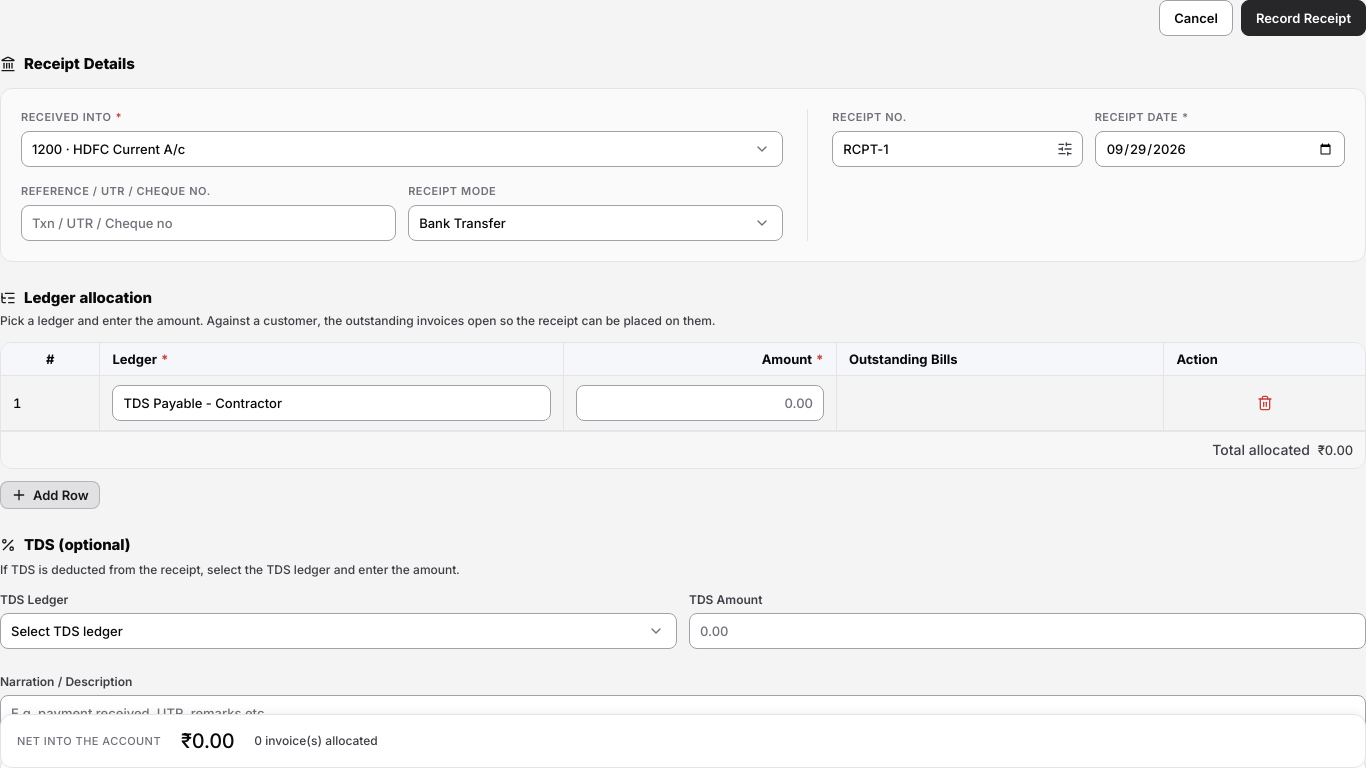
Test: money against a customer › offers the bills once the amount on a customer row is named
Type "ABC" into the dropdown named "Account, allocation row 1".
click(332, 403); type("ABC")  # box [112,385,551,421]
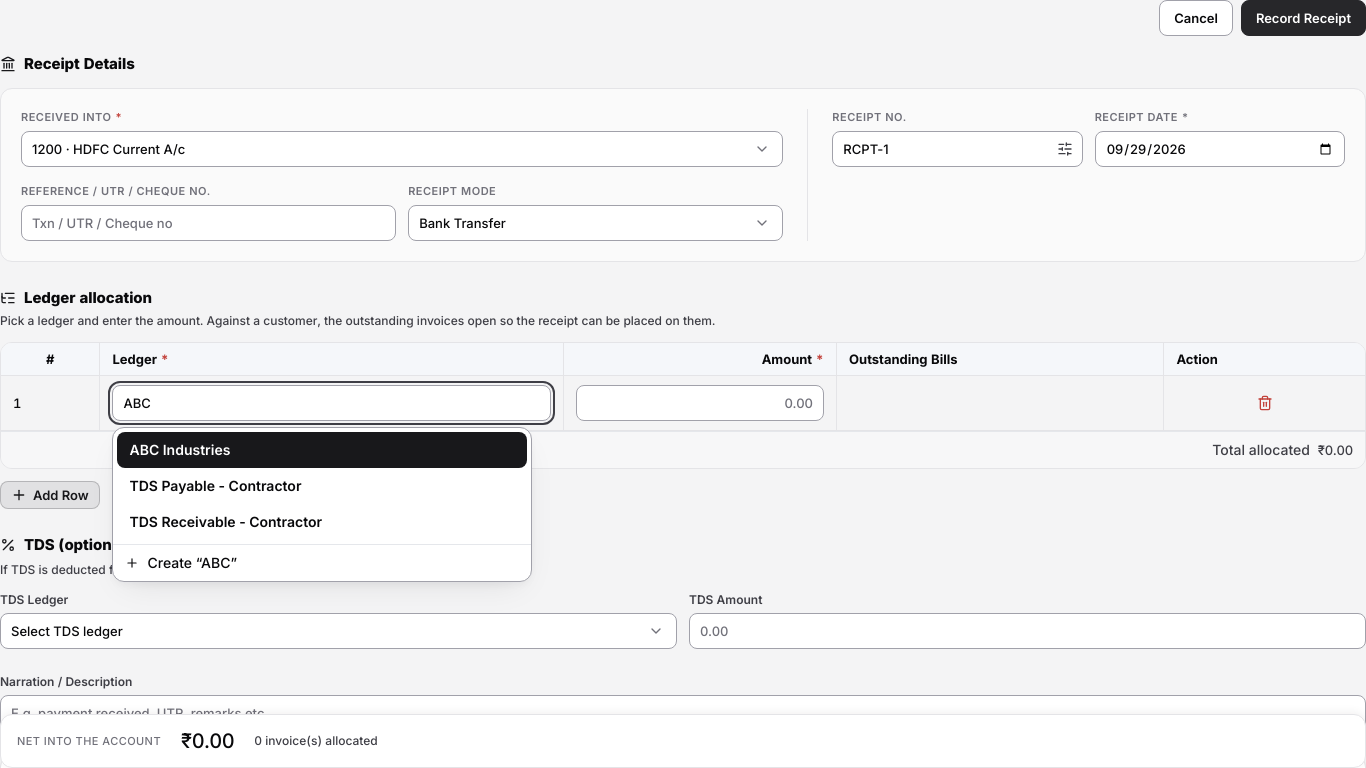
Click the option "ABC Industries".
click(180, 450)  # box [118,432,528,468]
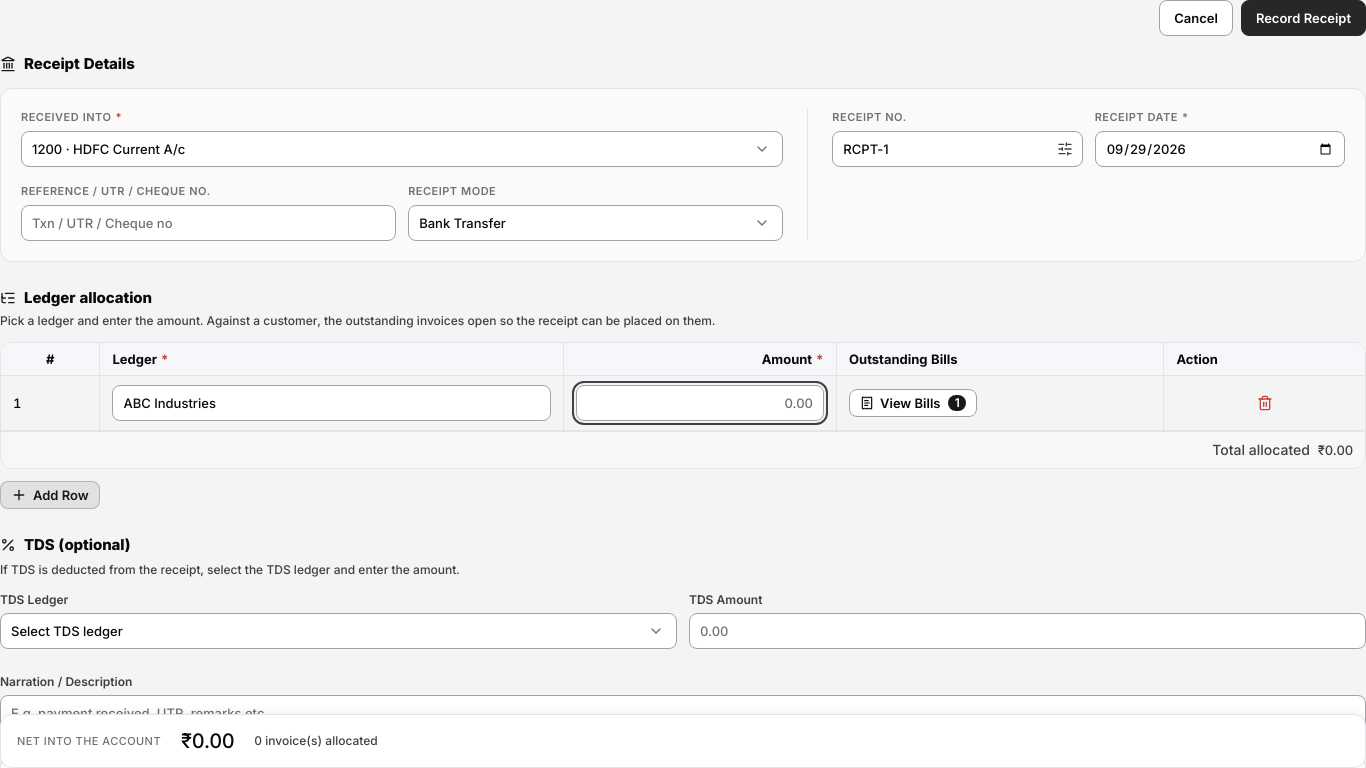
Check: the text "Allocate Outstanding Bills" is not shown
Type "50000" into the number field named "Amount, allocation row 1".
click(700, 403); type("50000")  # box [576,385,824,421]
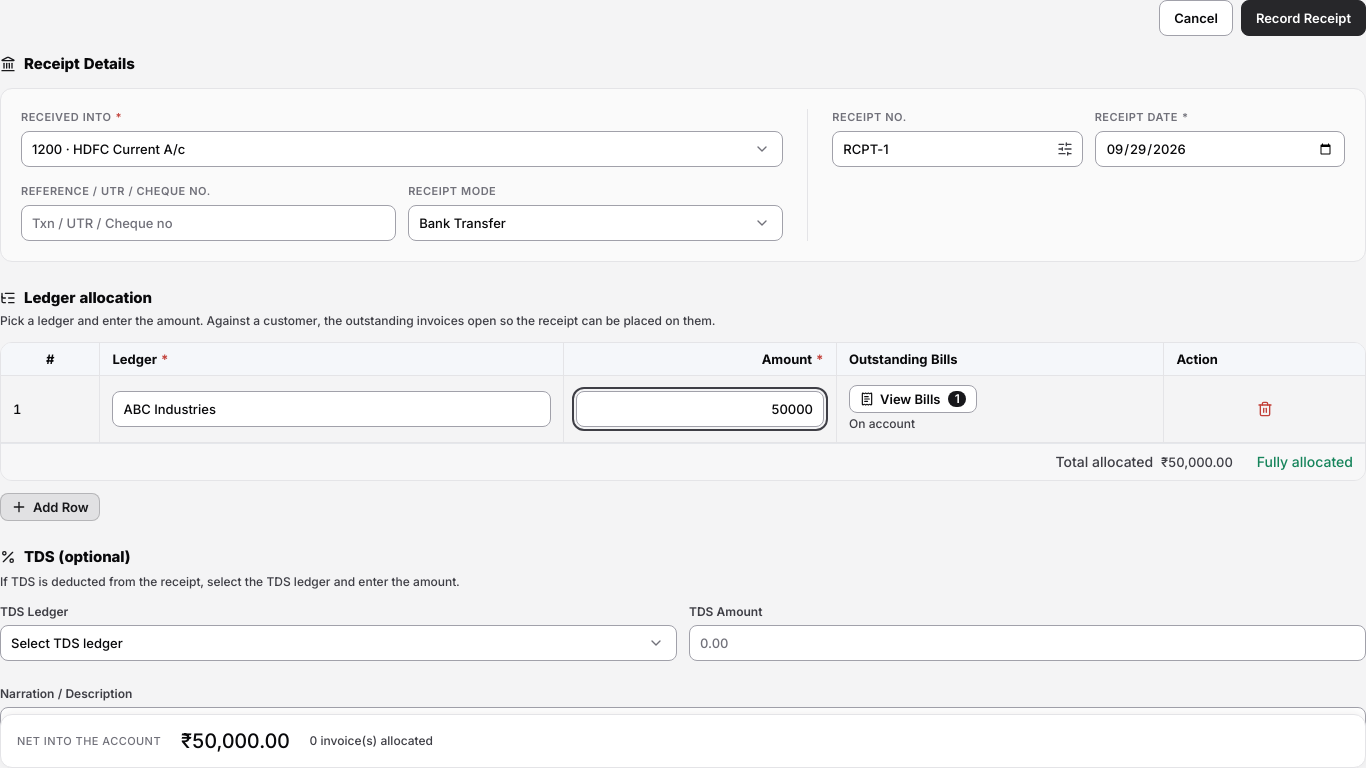
Leave the number field named "Amount, allocation row 1", box [576,391,824,427]
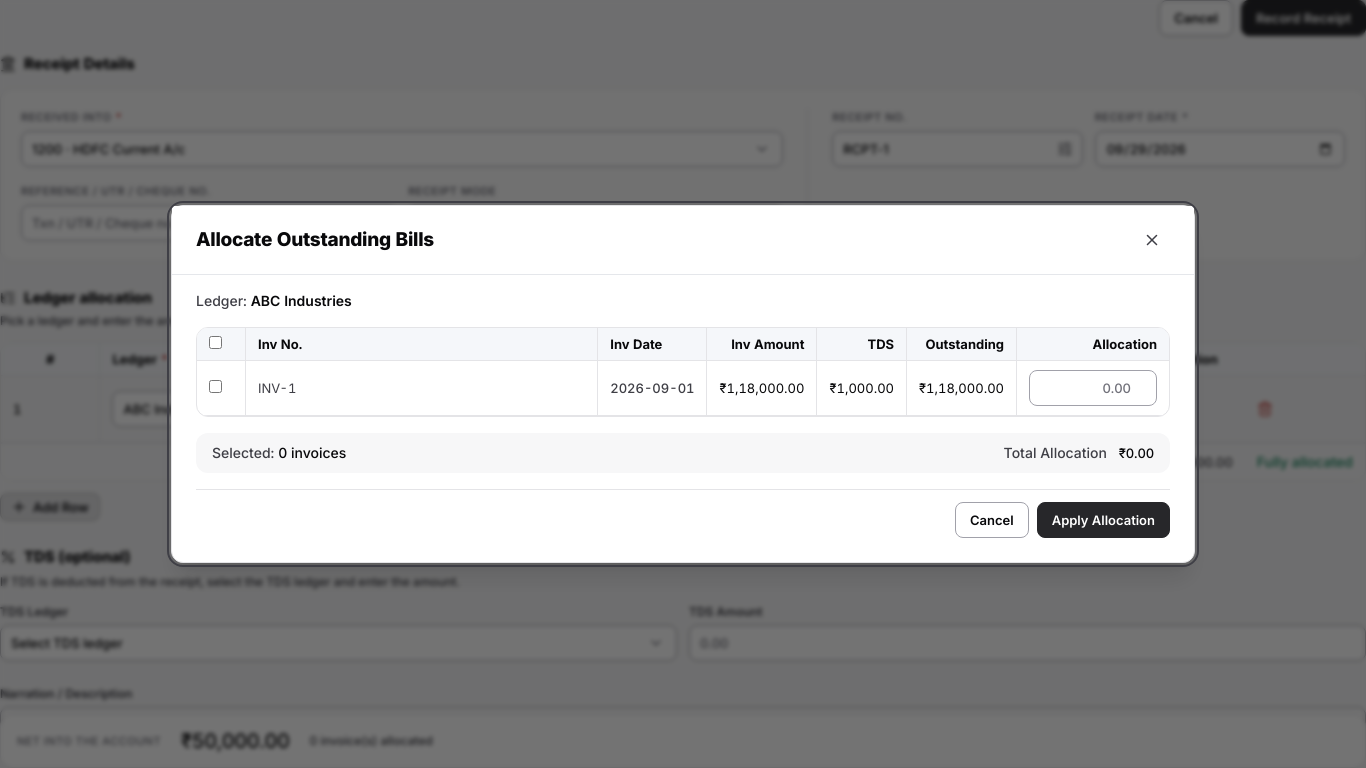
Check: the heading "Allocate Outstanding Bills" is shown, box [196,226,434,254]
